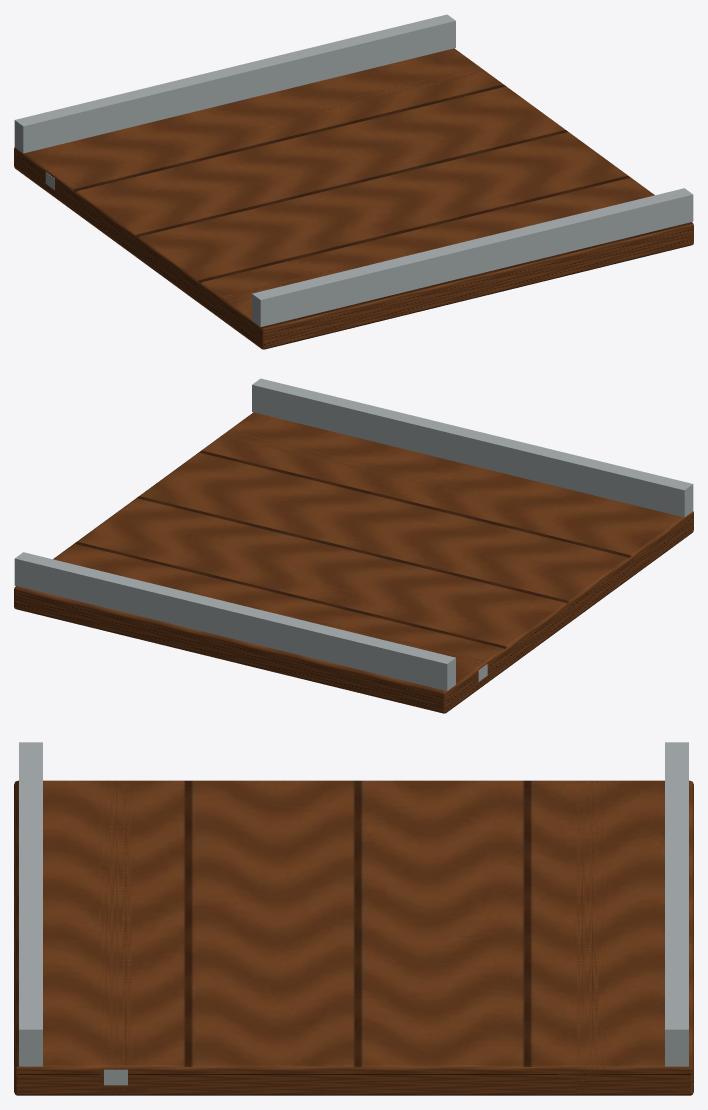
Rendered from modular-survival-base-builder-roof-flat-drained-reinfo-f997e90d__24306.glb.
3 renders of one model, top to bottom at view 1: azimuth 30°, elevation 25°; view 2: azimuth 150°, elevation 25°; view 3: azimuth 270°, elevation 25°, orthographic. The views are drawn at different scales.
Parts seen in each view (by area): view 1: roof-flat-drained-reinforced; view 2: roof-flat-drained-reinforced; view 3: roof-flat-drained-reinforced.
Boxes of the visible parts, <box> form: roof-flat-drained-reinforced: <box>14,14,693,349</box>; roof-flat-drained-reinforced: <box>14,378,693,713</box>; roof-flat-drained-reinforced: <box>14,742,693,1095</box>.
Size of the model in its own units: 2 by 0.22 by 2.
Materials: 2 (1 with a texture image).
